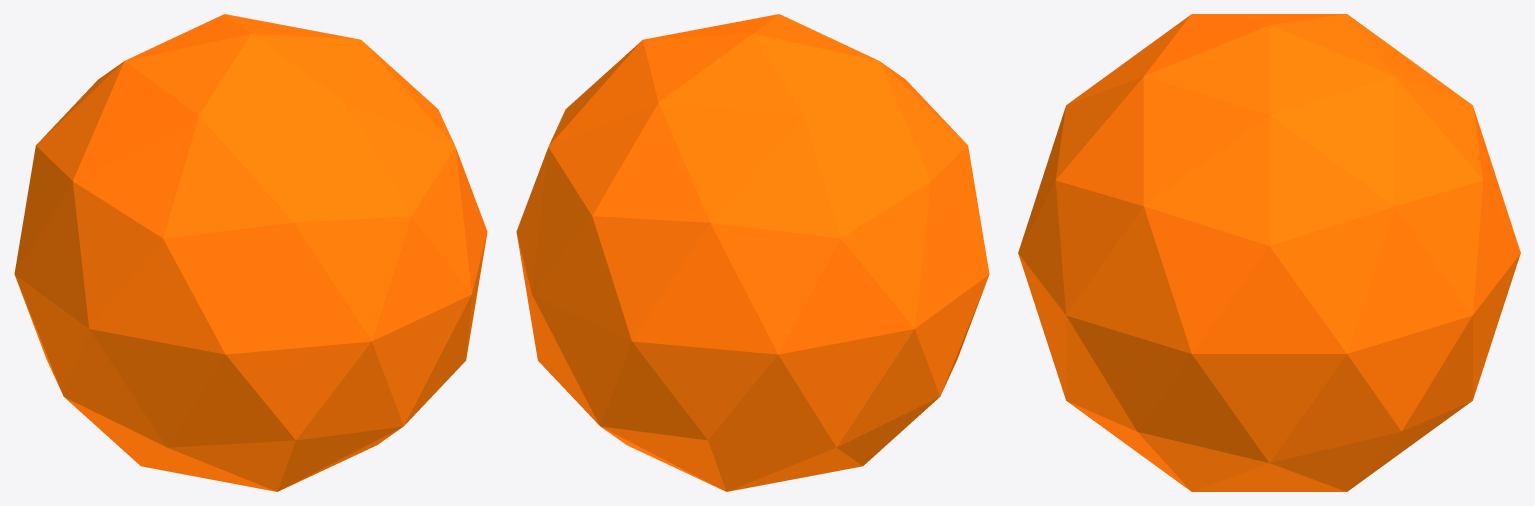
The model's file is playerPlanet_allStates.fbx.
The picture shows the model from 3 angles, left to right: view 1: azimuth 30°, elevation 25°; view 2: azimuth 150°, elevation 25°; view 3: azimuth 270°, elevation 25°; orthographic projection. The views are drawn at different scales.
Visible parts, largest first — view 1: Impacted; view 2: Impacted; view 3: Impacted.
Boxes of the visible parts, left/top/right/bottom form: Impacted: left=14, top=14, right=487, bottom=491; Impacted: left=516, top=14, right=989, bottom=491; Impacted: left=1018, top=14, right=1520, bottom=491.
Bounding box in the file's own units: 235 × 248 × 248.
